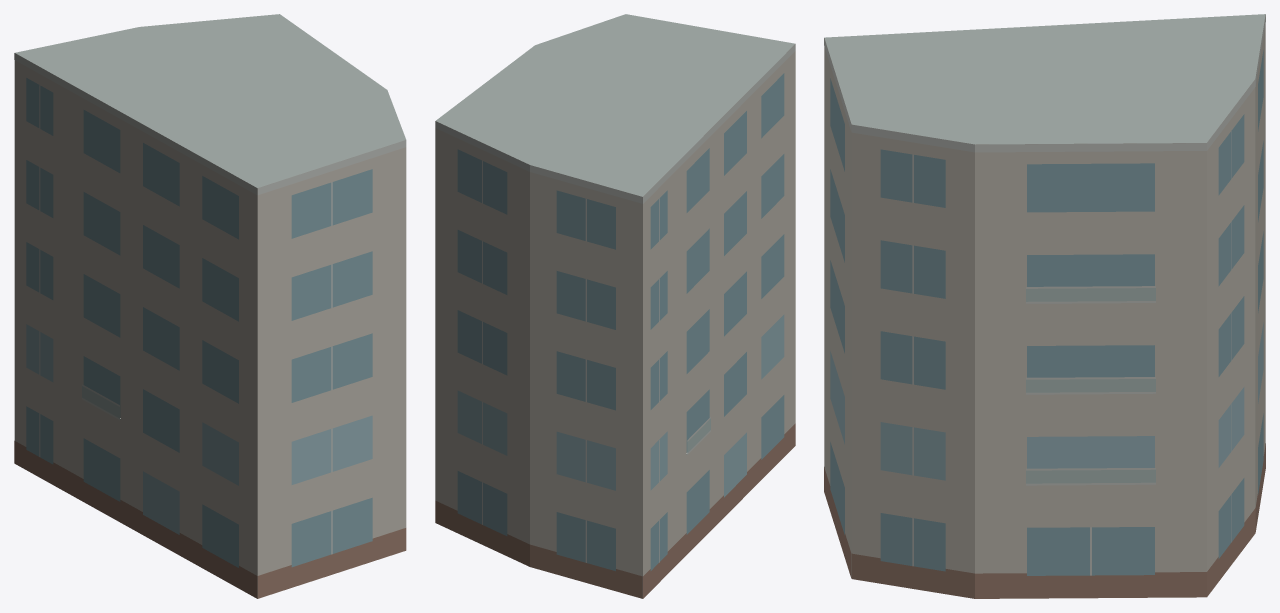
The model's file is survey-upis-32779364.glb.
3 renders of one model, left to right at view 1: azimuth 30°, elevation 25°; view 2: azimuth 150°, elevation 25°; view 3: azimuth 270°, elevation 25°, orthographic. The views are drawn at different scales.
Visible parts, largest first — view 1: survey-upis-32779364.tmp; view 2: survey-upis-32779364.tmp; view 3: survey-upis-32779364.tmp.
Boxes of the visible parts, <box> form: survey-upis-32779364.tmp: <box>14,14,406,598</box>; survey-upis-32779364.tmp: <box>435,14,795,598</box>; survey-upis-32779364.tmp: <box>824,14,1265,598</box>.
Bounding box in the file's own units: 8.58 × 13.9 × 12.25.
